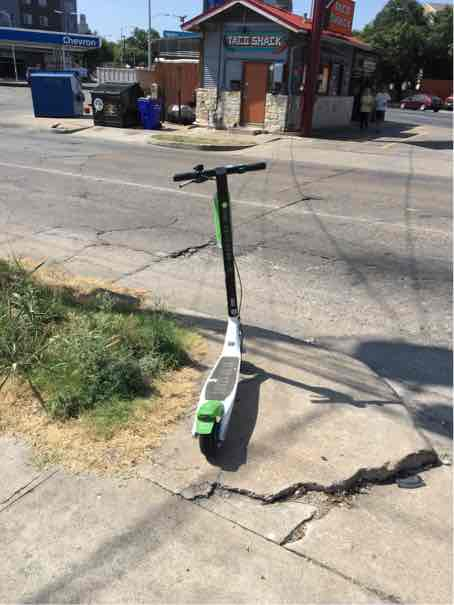scooter: (166, 150, 277, 463)
